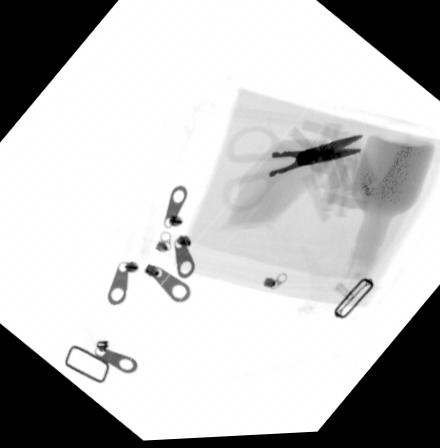Scissors: (220, 129, 363, 216)
